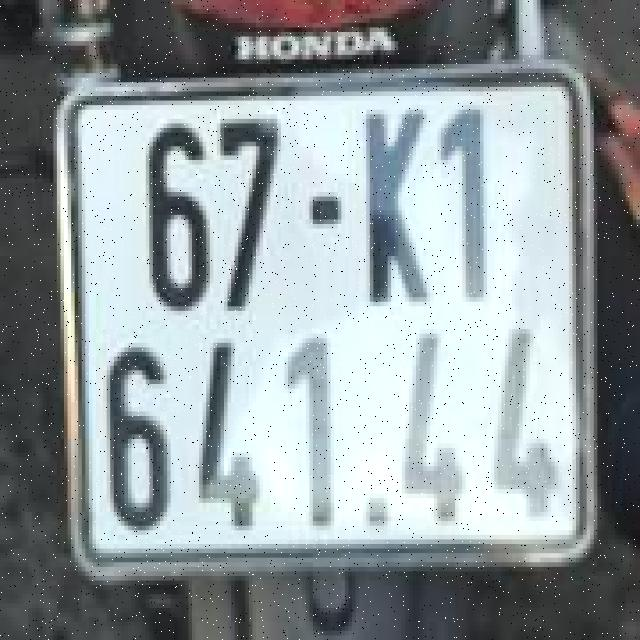1: (434, 84, 498, 308), (276, 324, 340, 540)
4: (389, 322, 471, 537), (487, 315, 548, 535), (187, 329, 250, 535)
6: (139, 112, 217, 318), (96, 329, 167, 530)
7: (210, 100, 302, 311)
K: (354, 85, 425, 313)
